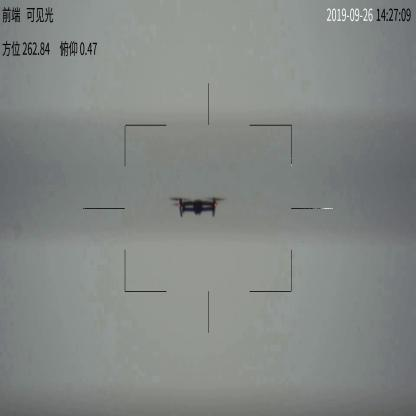uav: (172, 190, 226, 222)
